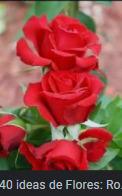RedRose: (18, 11, 104, 72), (27, 69, 105, 126)
